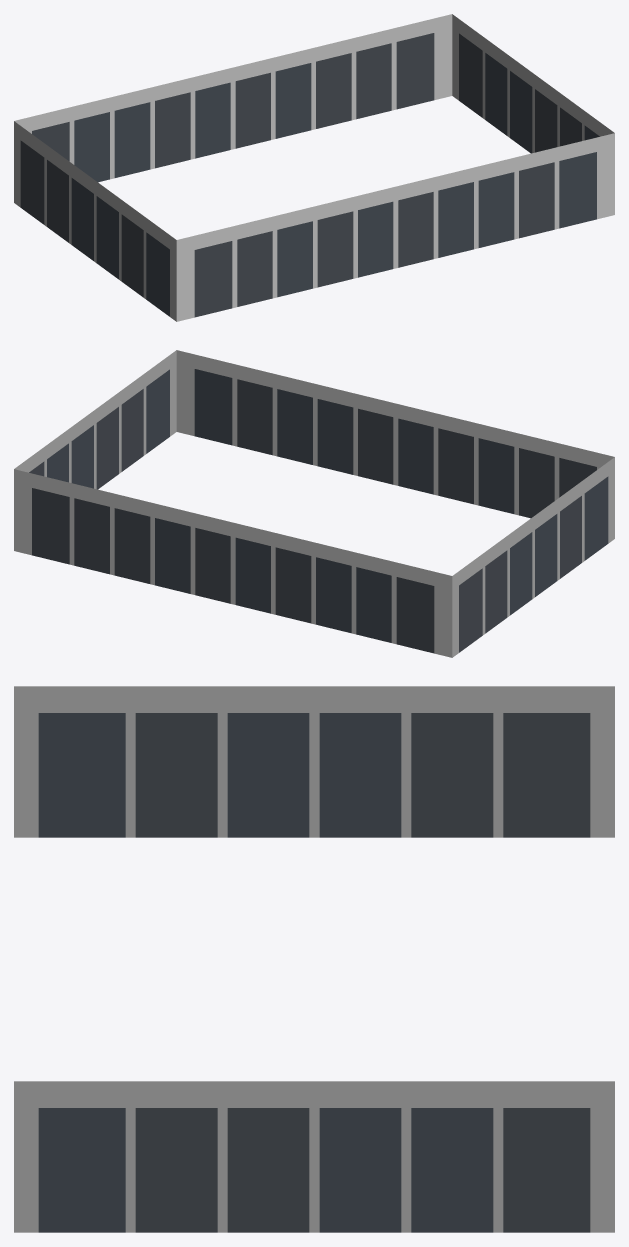
File: TB_CITY_Skysc_E_BodyA_Gray.FBX
3 views of the same model, one above another, from view 1: azimuth 30°, elevation 25°; view 2: azimuth 150°, elevation 25°; view 3: azimuth 270°, elevation 25° (orthographic). The views are drawn at different scales.
Parts seen in each view (by area): view 1: TB_CITY_Skysc_E_BodyA_Gray; view 2: TB_CITY_Skysc_E_BodyA_Gray; view 3: TB_CITY_Skysc_E_BodyA_Gray.
Part boxes in pixels (left/top/right/bottom): TB_CITY_Skysc_E_BodyA_Gray: left=14, top=14, right=614, bottom=321; TB_CITY_Skysc_E_BodyA_Gray: left=14, top=350, right=614, bottom=657; TB_CITY_Skysc_E_BodyA_Gray: left=14, top=686, right=614, bottom=1232.
Bounding box in the file's own units: 28 × 5 × 18.
